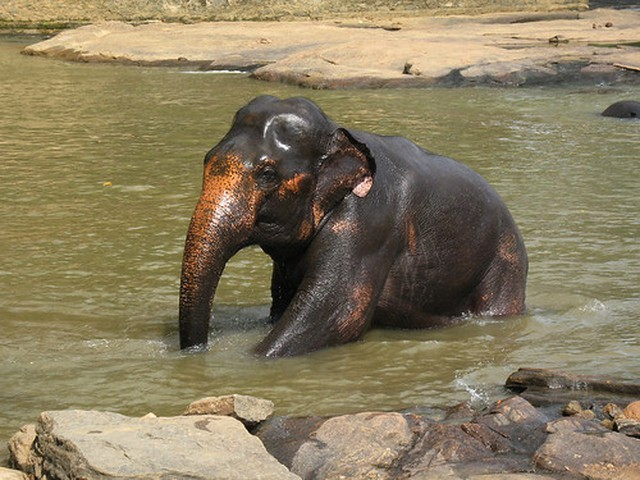Elephant: (177, 91, 537, 353)
